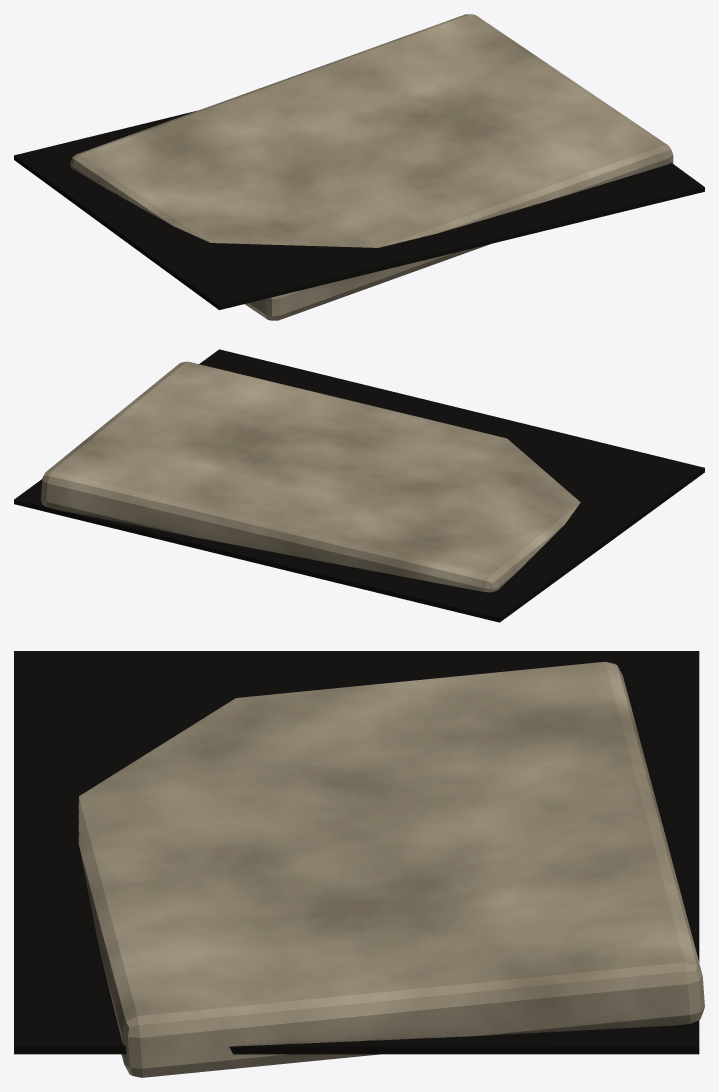
Rendered from trap_siracusa_heavy.glb.
3 renders of one model, top to bottom at view 1: azimuth 30°, elevation 25°; view 2: azimuth 150°, elevation 25°; view 3: azimuth 270°, elevation 25°, orthographic. The views are drawn at different scales.
Parts seen in each view (by area): view 1: trap_siracusa_heavy; view 2: trap_siracusa_heavy; view 3: trap_siracusa_heavy.
Boxes of the visible parts, x1=… form: trap_siracusa_heavy: x1=14, y1=14, x2=704, y2=320; trap_siracusa_heavy: x1=14, y1=349, x2=704, y2=622; trap_siracusa_heavy: x1=14, y1=651, x2=704, y2=1077.
Size of the model in its own units: 1.13 by 0.1673 by 0.8267.
Materials: 2 (2 with a texture image).
